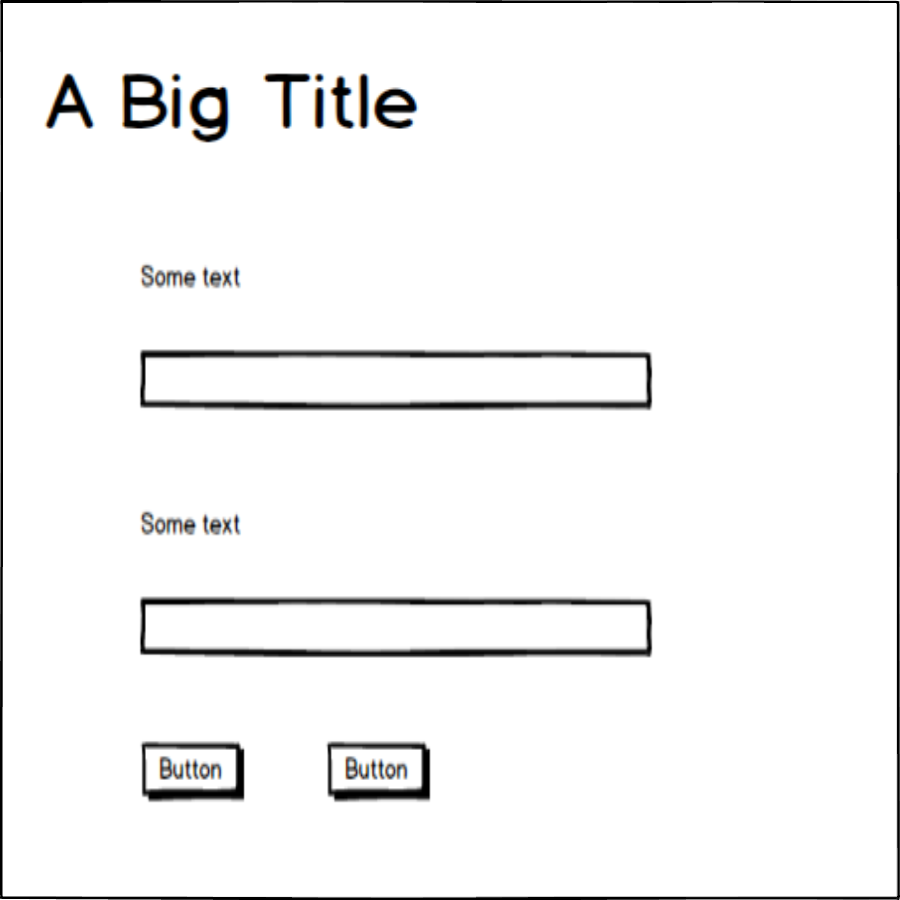button: (323, 734, 437, 807), (135, 736, 253, 803)
h1: (37, 56, 427, 147)
input: (138, 588, 668, 667), (131, 340, 663, 418)
label: (133, 501, 244, 544), (131, 259, 249, 293)
